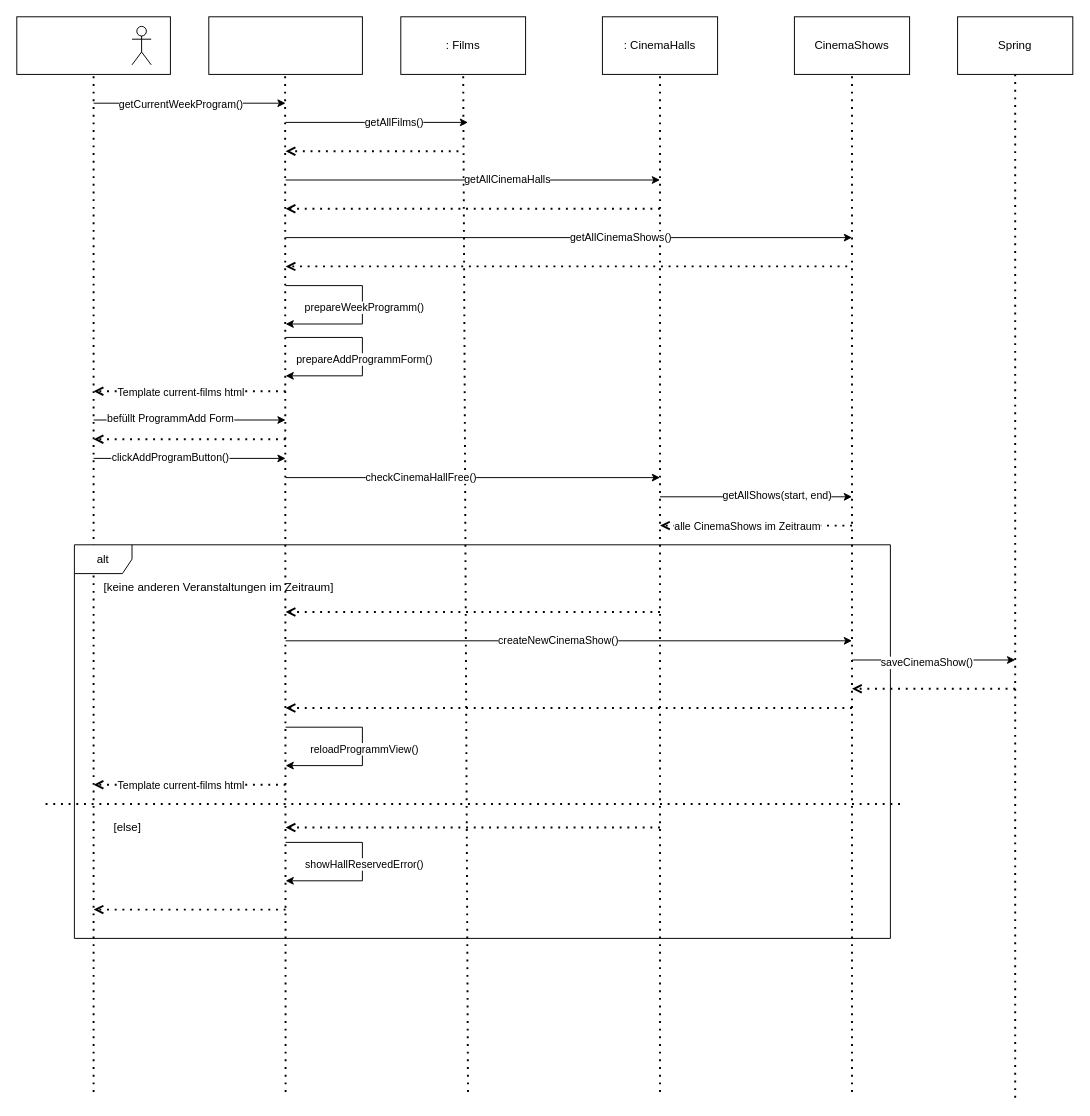
Image size: 1090x1116. Some labels were removed from this diagram. Here are the shapes that lost their labels. From the top down, the box of each, then its label:
(16, 16, 170, 74): : Autorisierter Mitarbeiter
(208, 16, 362, 74): : ProgramView
